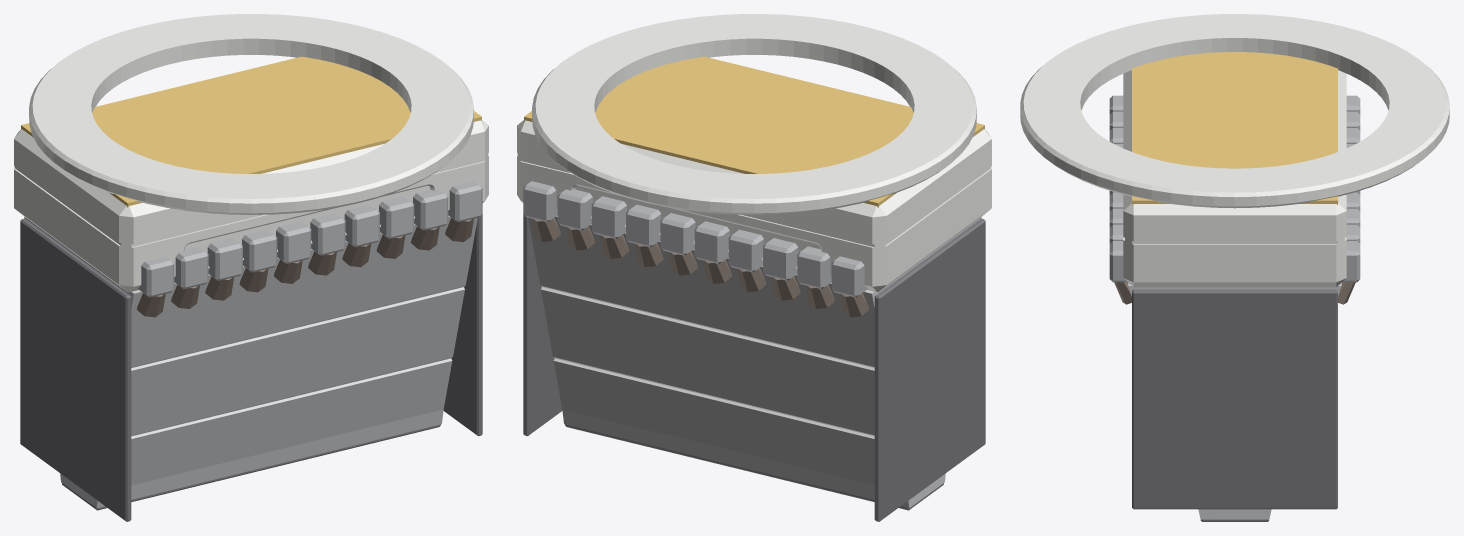
The model's file is ax_prop_12_linear_aerospike.glb.
3 renders of one model, left to right at view 1: azimuth 30°, elevation 25°; view 2: azimuth 150°, elevation 25°; view 3: azimuth 270°, elevation 25°, orthographic. The views are drawn at different scales.
Parts seen in each view (by area): view 1: ramp, mount_ring, side_fences, mli_top, housing, thrust_cells, cell_throats, base_plate; view 2: ramp, mount_ring, side_fences, mli_top, housing, thrust_cells, cell_throats, base_plate; view 3: side_fences, mount_ring, mli_top, housing, thrust_cells, ramp, cell_throats.
Boxes of the visible parts, x1,y1,x2,y2 form: ramp: (24, 215, 477, 508); mount_ring: (29, 14, 473, 214); side_fences: (20, 214, 482, 521); mli_top: (21, 56, 481, 207); housing: (14, 120, 488, 292); thrust_cells: (138, 181, 482, 297); cell_throats: (137, 218, 473, 317); base_plate: (62, 424, 440, 510); ramp: (528, 215, 981, 508); mount_ring: (532, 14, 976, 214); side_fences: (523, 214, 985, 521); mli_top: (524, 56, 984, 207); housing: (517, 120, 991, 292); thrust_cells: (523, 181, 867, 297); cell_throats: (532, 218, 868, 317); base_plate: (565, 424, 943, 510); side_fences: (1132, 289, 1337, 509); mount_ring: (1020, 14, 1449, 208); mli_top: (1132, 52, 1337, 204); housing: (1123, 70, 1346, 287); thrust_cells: (1109, 95, 1360, 282); ramp: (1128, 283, 1341, 519); cell_throats: (1114, 282, 1355, 304).
Bounding box in the file's own units: 2.5 × 2.17 × 2.5.
